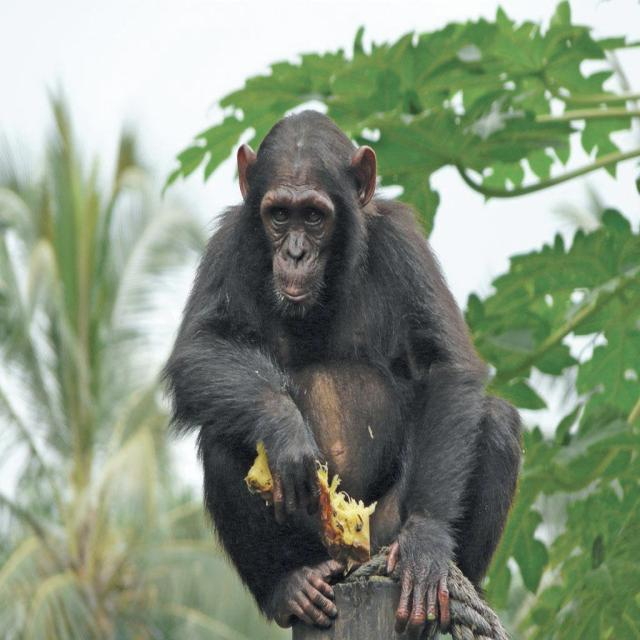chimpanzee: (164, 110, 522, 639)
